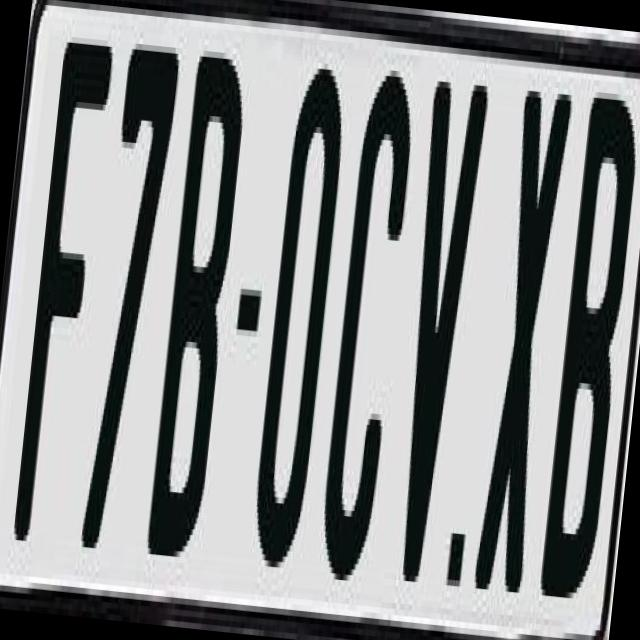0: (243, 66, 350, 581)
7: (78, 37, 184, 546)
B: (147, 38, 250, 553), (536, 85, 640, 589)
C: (309, 62, 424, 600)
F: (13, 24, 117, 539)
V: (382, 69, 493, 596)
X: (471, 72, 578, 605)
